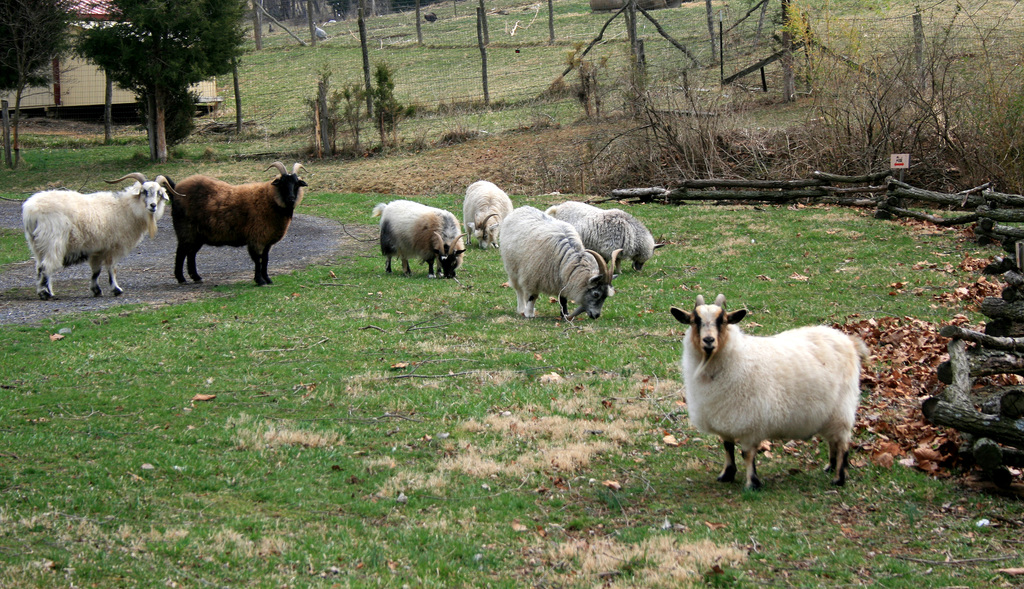sheep: (670, 293, 862, 487), (24, 170, 188, 300), (500, 204, 620, 318), (373, 198, 462, 277)
